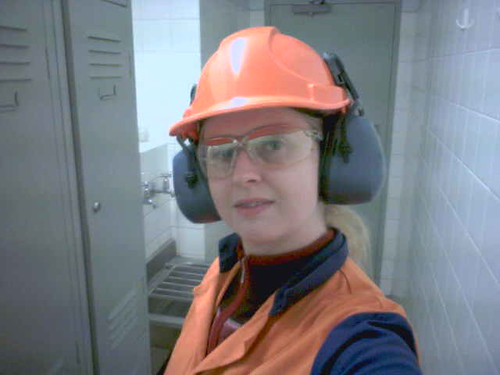person hardhat: (150, 22, 437, 375)
